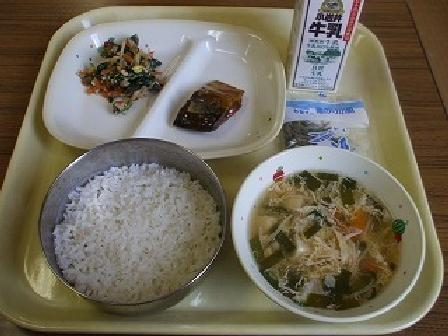Fish: (168, 71, 249, 137)
Milk: (282, 0, 369, 93)
Rice: (48, 145, 224, 313)
Salad: (75, 27, 165, 109)
Soups: (247, 152, 423, 316)
